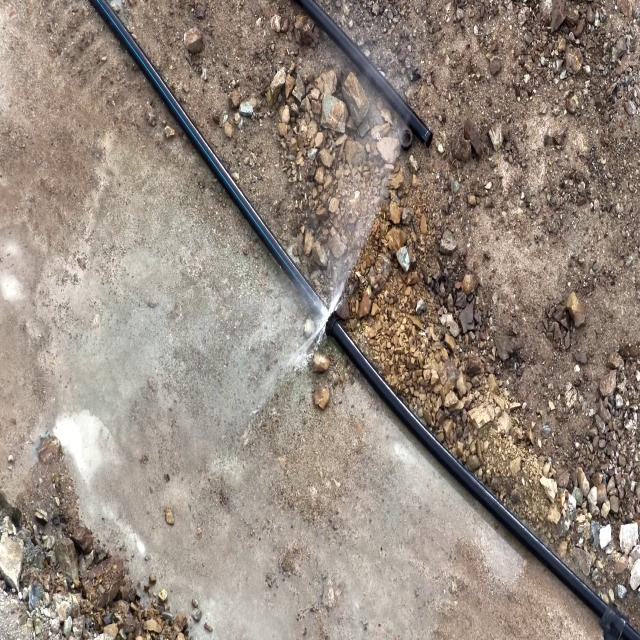leak: (253, 150, 403, 399)
